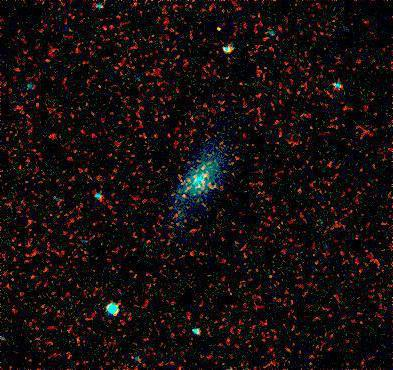star: (169, 179, 199, 209)
